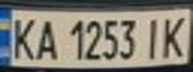1: (63, 16, 84, 61)
2: (81, 16, 106, 61)
3: (118, 16, 142, 61)
5: (103, 16, 121, 62)
A: (33, 15, 60, 61)
I: (139, 15, 166, 60)
K: (157, 11, 193, 58), (6, 14, 39, 61)
